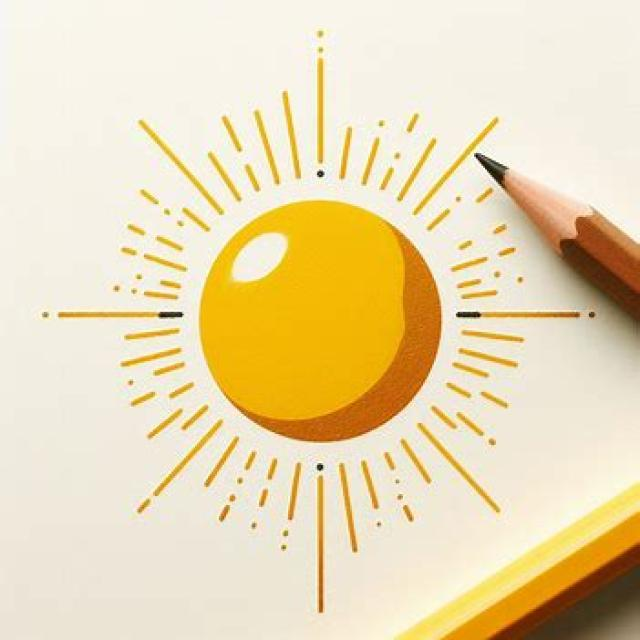Circle: (199, 201, 439, 443)
